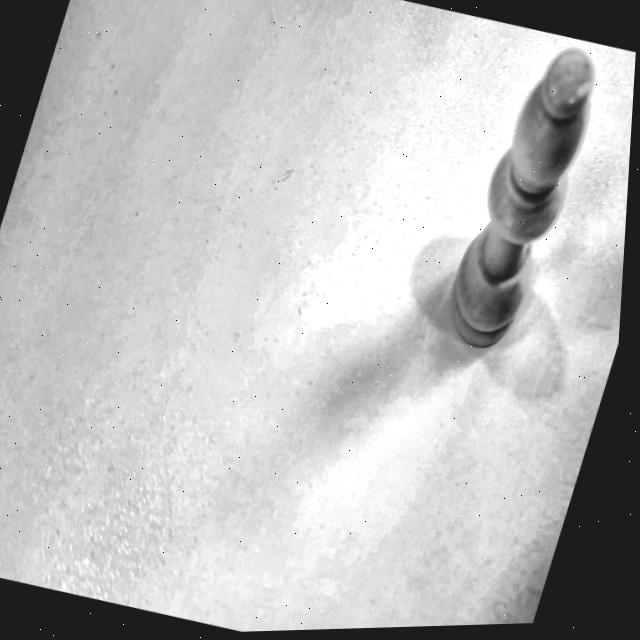white-bishop: (372, 17, 638, 476)
